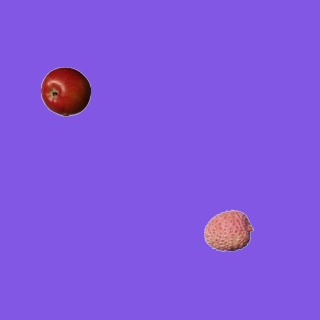Apple Braeburn: (40, 66, 90, 116)
Lychee: (203, 205, 253, 255)
